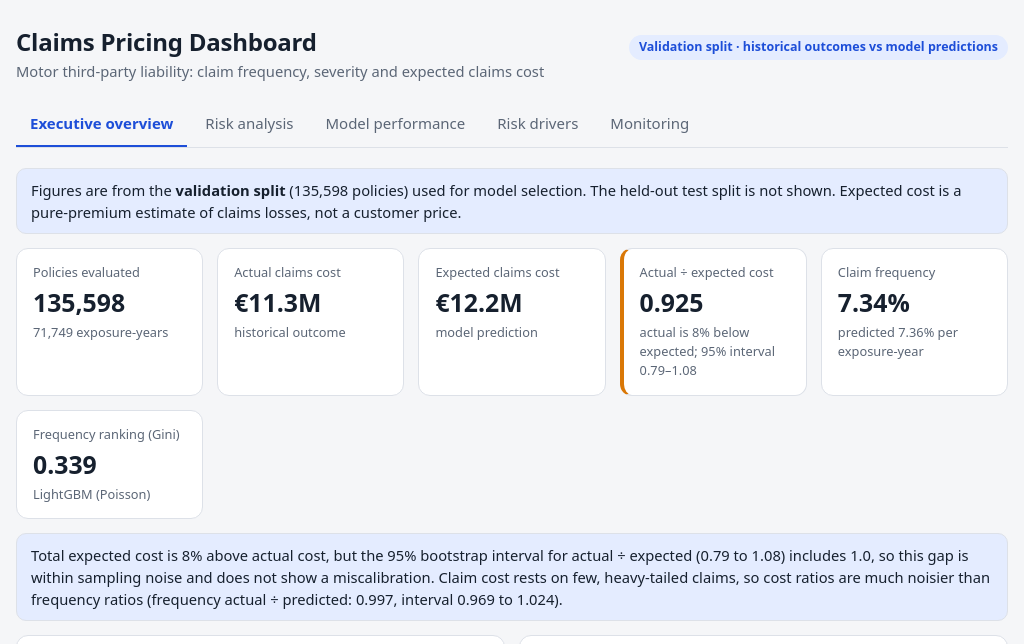
Test: Model performance page › says results are validation, not final test results
Expected: the text "Policies evaluated" is shown, [33,263,140,281]
Click the tab "Model performance" at (395, 124), box [312,102,479,147]
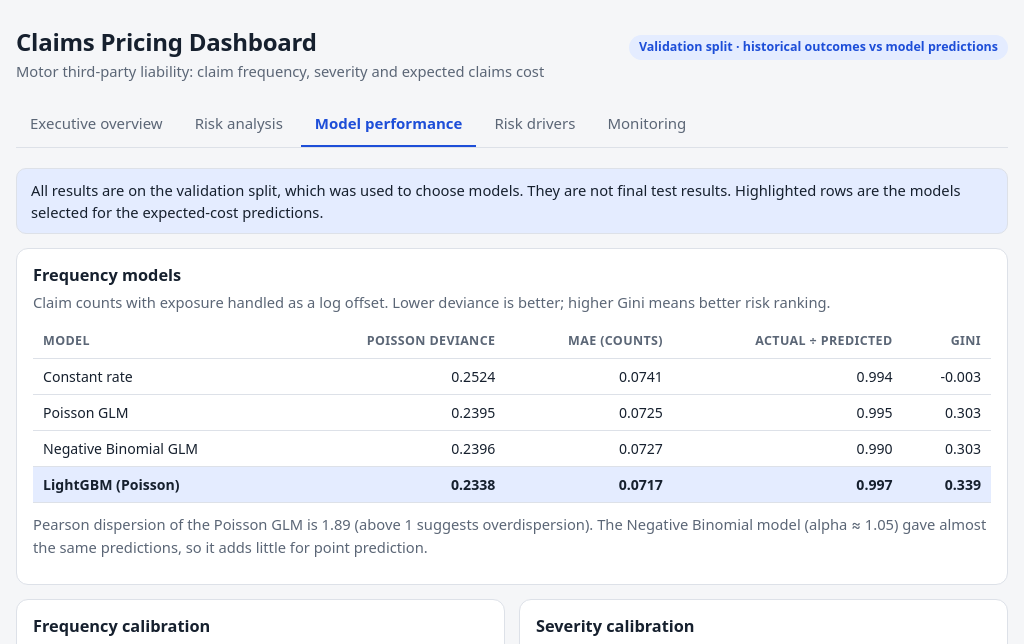
Result: the text "not final test results" is shown at [31,180,960,222]
